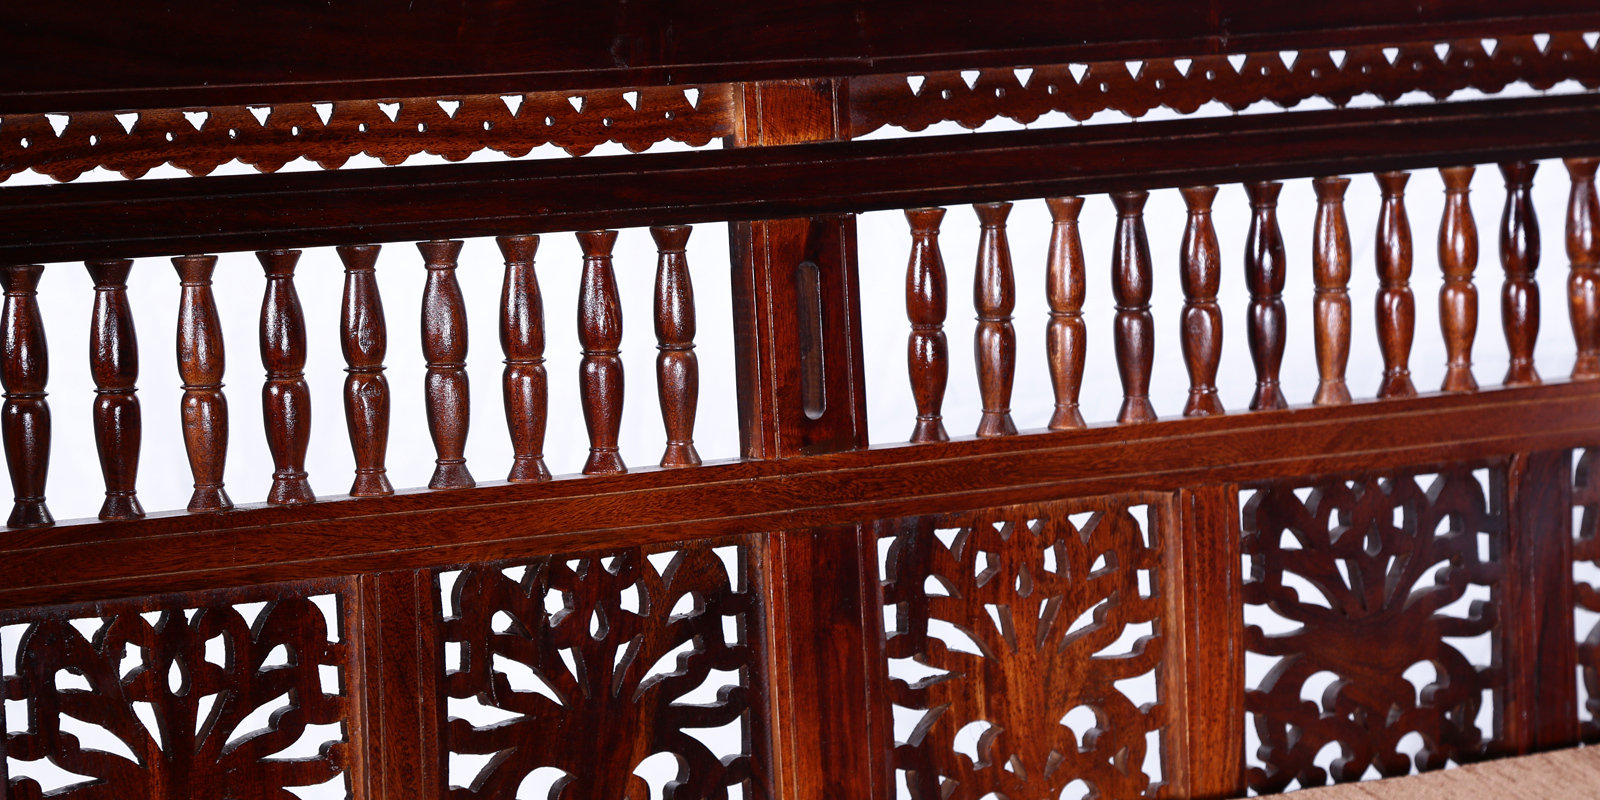Maurya Handcrafted Three Seater Sofa in Honey Oak Finish by Mudramark: (1, 1, 1600, 798)
